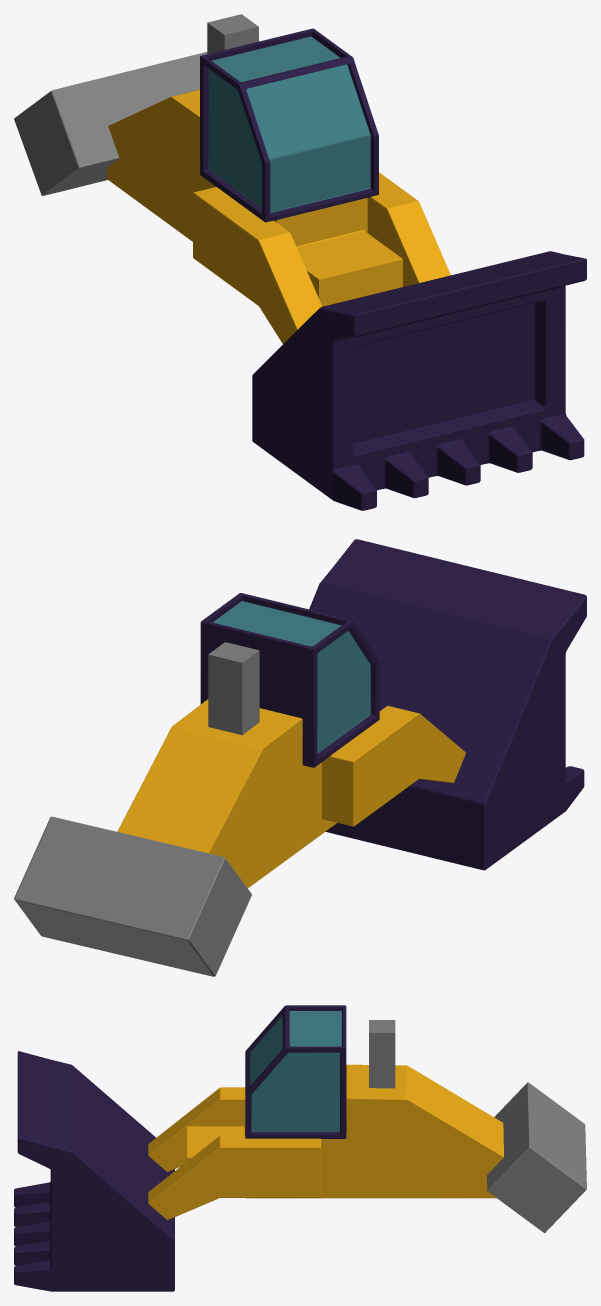
The model's file is Main Tractor.fbx.
The picture shows the model from 3 angles, top to bottom: view 1: azimuth 30°, elevation 25°; view 2: azimuth 150°, elevation 25°; view 3: azimuth 270°, elevation 25°; orthographic projection. The views are drawn at different scales.
Visible parts, largest first — view 1: Cube.055; view 2: Cube.055; view 3: Cube.055.
Part boxes in pixels (<box>): Cube.055: <box>14,14,586,510</box>; Cube.055: <box>14,539,586,976</box>; Cube.055: <box>14,1005,586,1291</box>.
Bounding box in the file's own units: 268 × 318 × 743.
